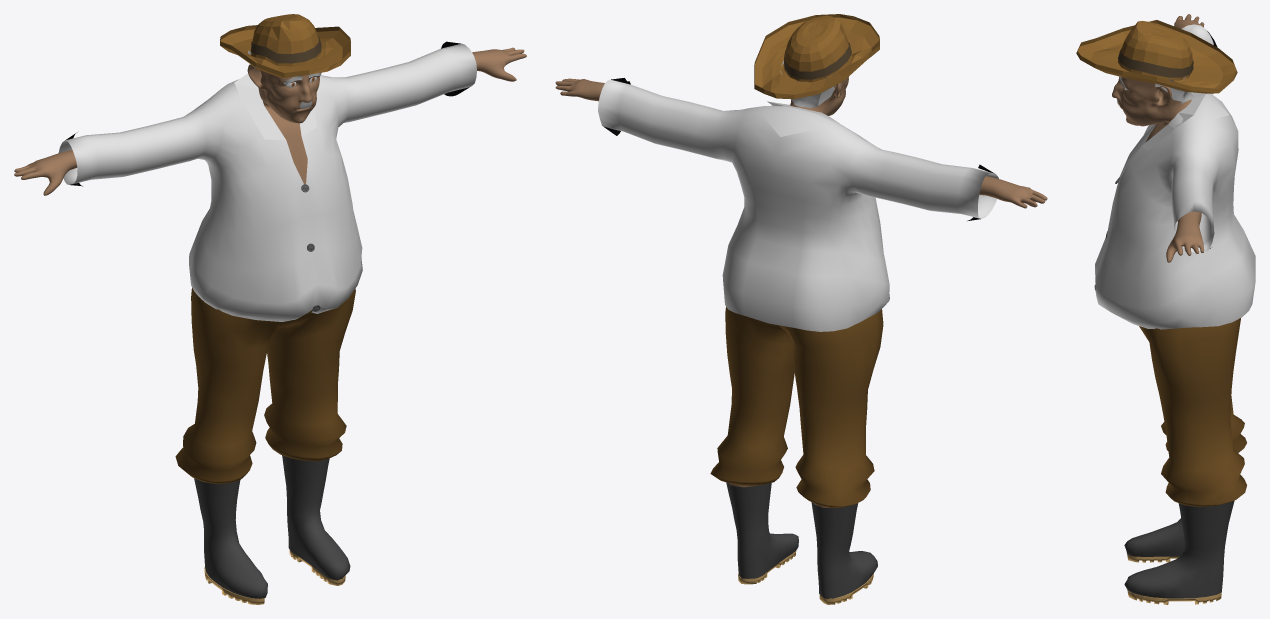
Rendered from campesino.fbx.
3 renders of one model, left to right at view 1: azimuth 30°, elevation 25°; view 2: azimuth 150°, elevation 25°; view 3: azimuth 270°, elevation 25°, orthographic. The views are drawn at different scales.
Parts seen in each view (by area): view 1: anciano2, anciano3, anciano9, anciano1, pCylinder1, pCylinder2; view 2: anciano2, anciano3, anciano9, pCylinder1, anciano1, pCylinder2; view 3: anciano2, anciano3, anciano9, pCylinder1, anciano1, pCylinder2.
Boxes of the visible parts, box(x1,y1,x2,y2) form: anciano2: box(58, 41, 476, 321); anciano3: box(175, 287, 355, 484); anciano9: box(194, 455, 350, 604); anciano1: box(14, 47, 526, 195); pCylinder1: box(220, 14, 350, 78); pCylinder2: box(250, 35, 321, 63); anciano2: box(598, 78, 998, 331); anciano3: box(710, 307, 883, 507); anciano9: box(726, 482, 877, 604); pCylinder1: box(754, 14, 879, 99); anciano1: box(555, 71, 1047, 507); pCylinder2: box(784, 42, 851, 79); anciano2: box(1095, 24, 1255, 329); anciano3: box(1139, 318, 1246, 507); anciano9: box(1124, 500, 1234, 604); pCylinder1: box(1076, 20, 1237, 93); anciano1: box(1112, 14, 1204, 262); pCylinder2: box(1118, 48, 1193, 77).
Bounding box in the file's own units: 13.4 × 14.36 × 4.24.
